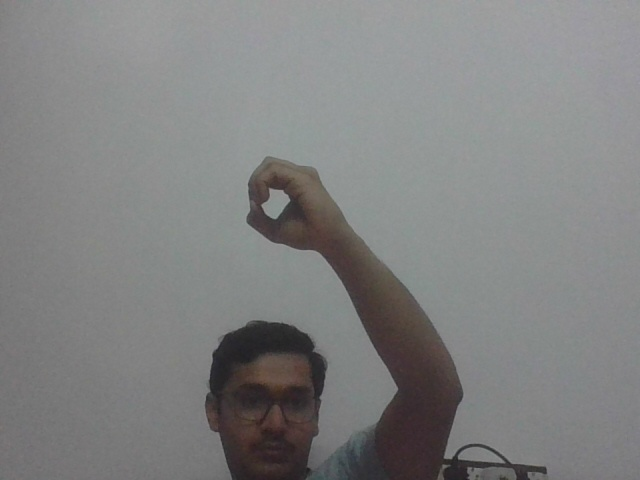O: (240, 154, 339, 252)
